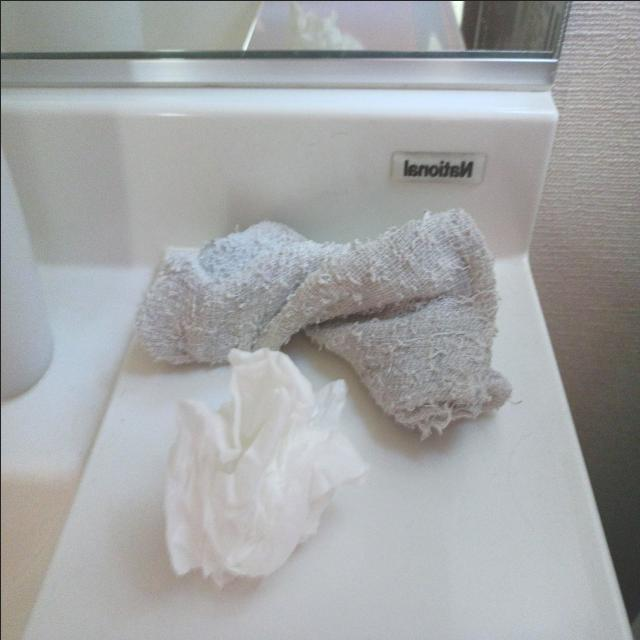Paper: (164, 337, 360, 566)
